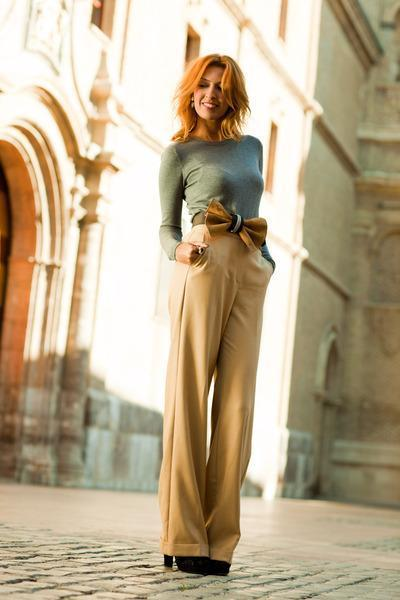pants: (148, 229, 275, 563)
shirt: (159, 135, 266, 263)
shoe: (164, 552, 230, 576)
